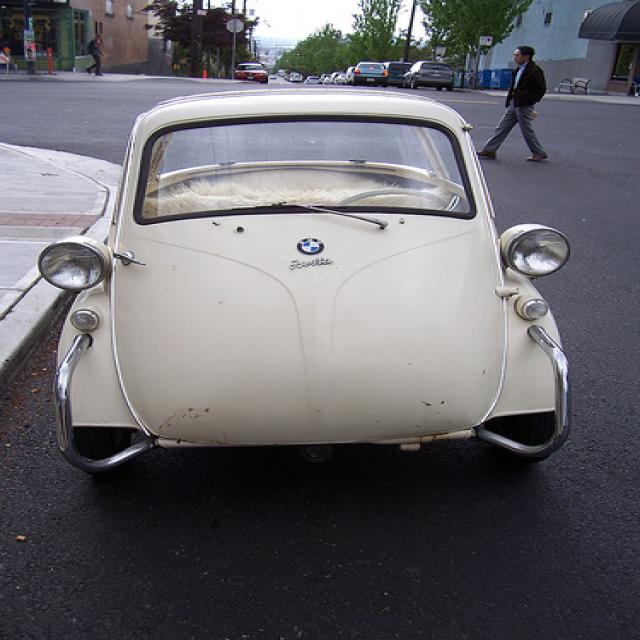Car: (43, 79, 573, 482)
